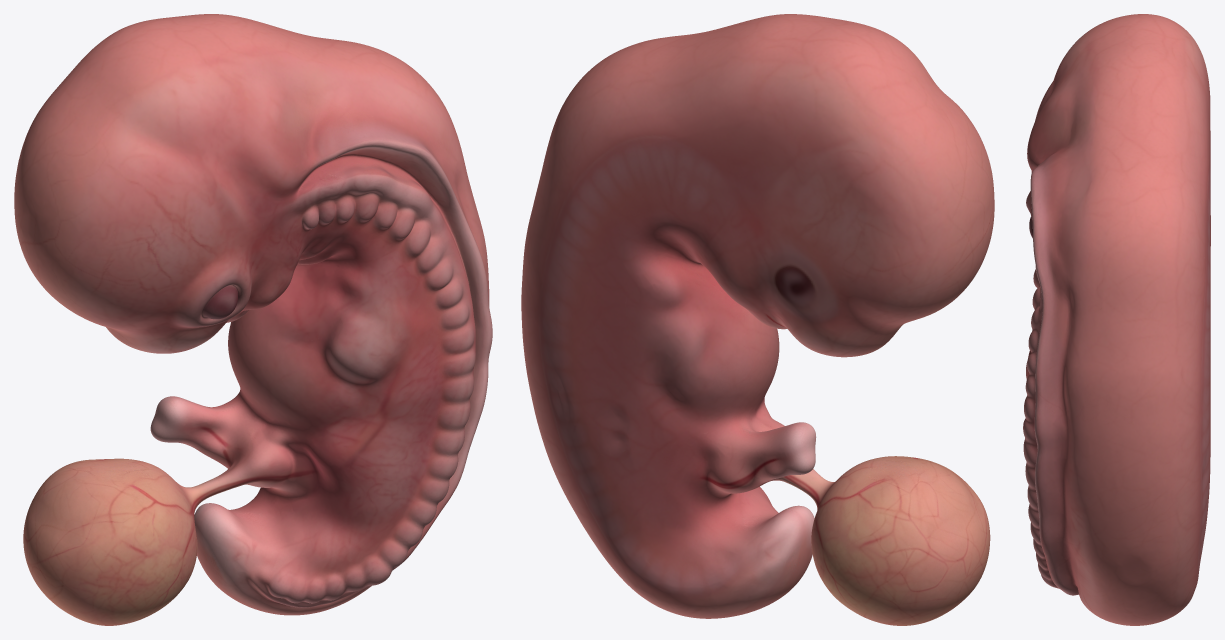
The model's file is stade-04a.glb.
3 views of the same model, side by side, from view 1: azimuth 30°, elevation 25°; view 2: azimuth 150°, elevation 25°; view 3: azimuth 270°, elevation 25° (orthographic). The views are drawn at different scales.
Size of the model in its own units: 1.45 by 1.9 by 0.6057.
1 material, 1 textured.
